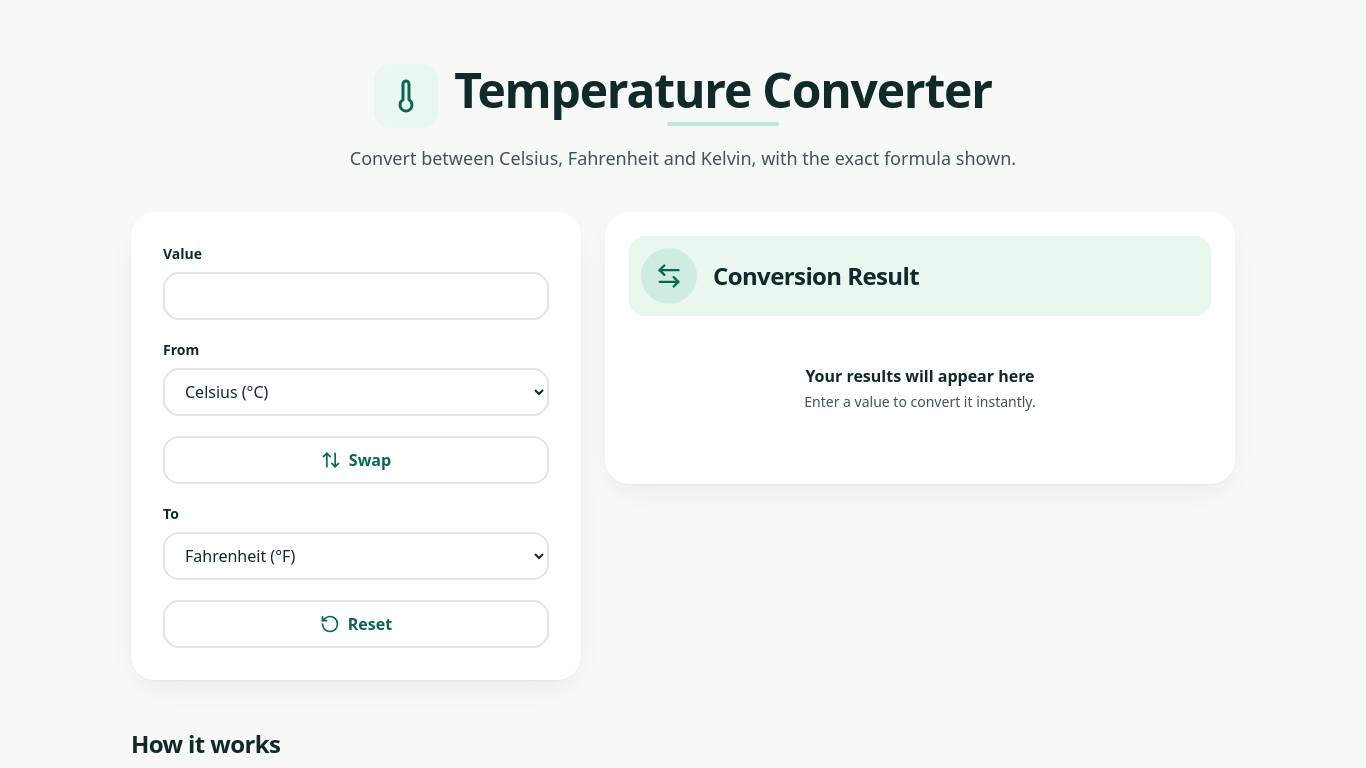
Temperature Converter › resets the value and units
In the field labelled "Value": x=356, y=296 top-left (163, 272), bottom-right (549, 320), type "5"
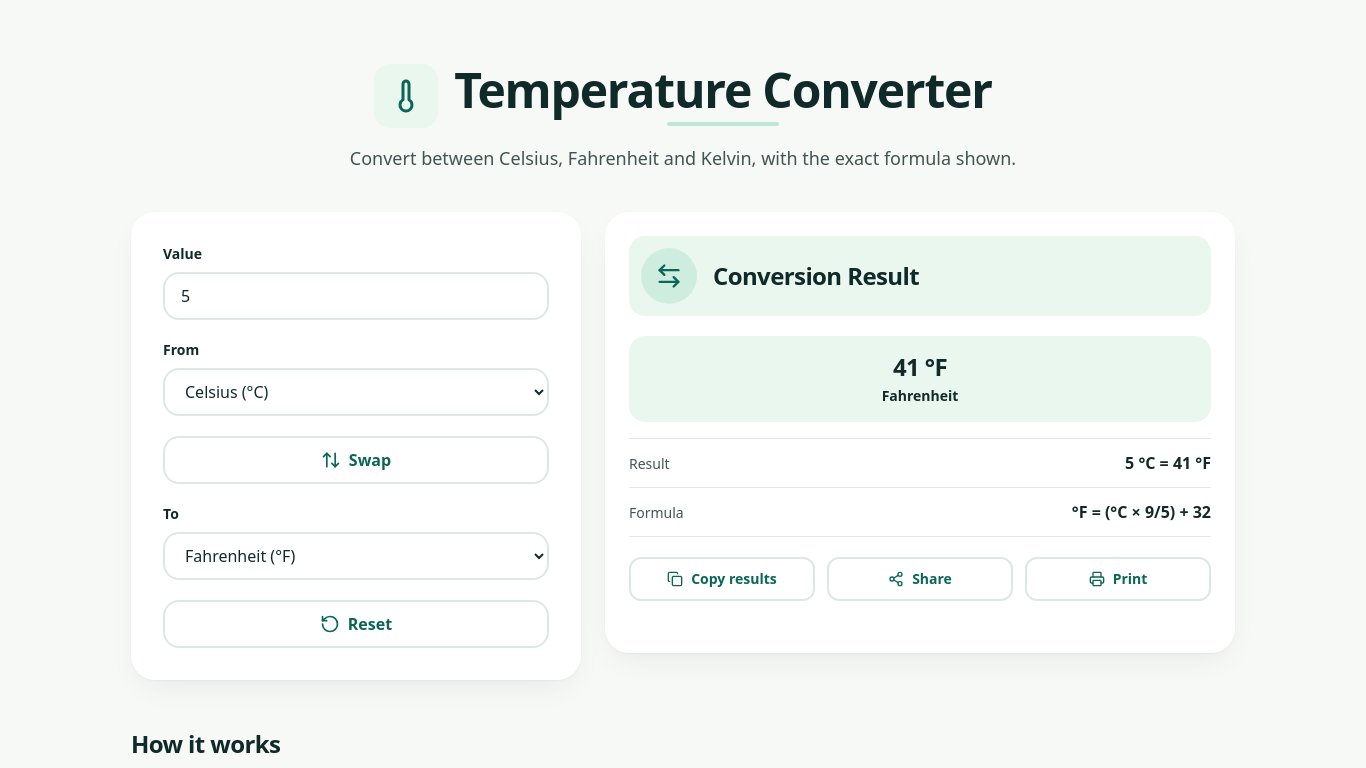
Select "Kelvin (K)" in the dropdown labelled "To": x=356, y=556 top-left (163, 532), bottom-right (549, 580)
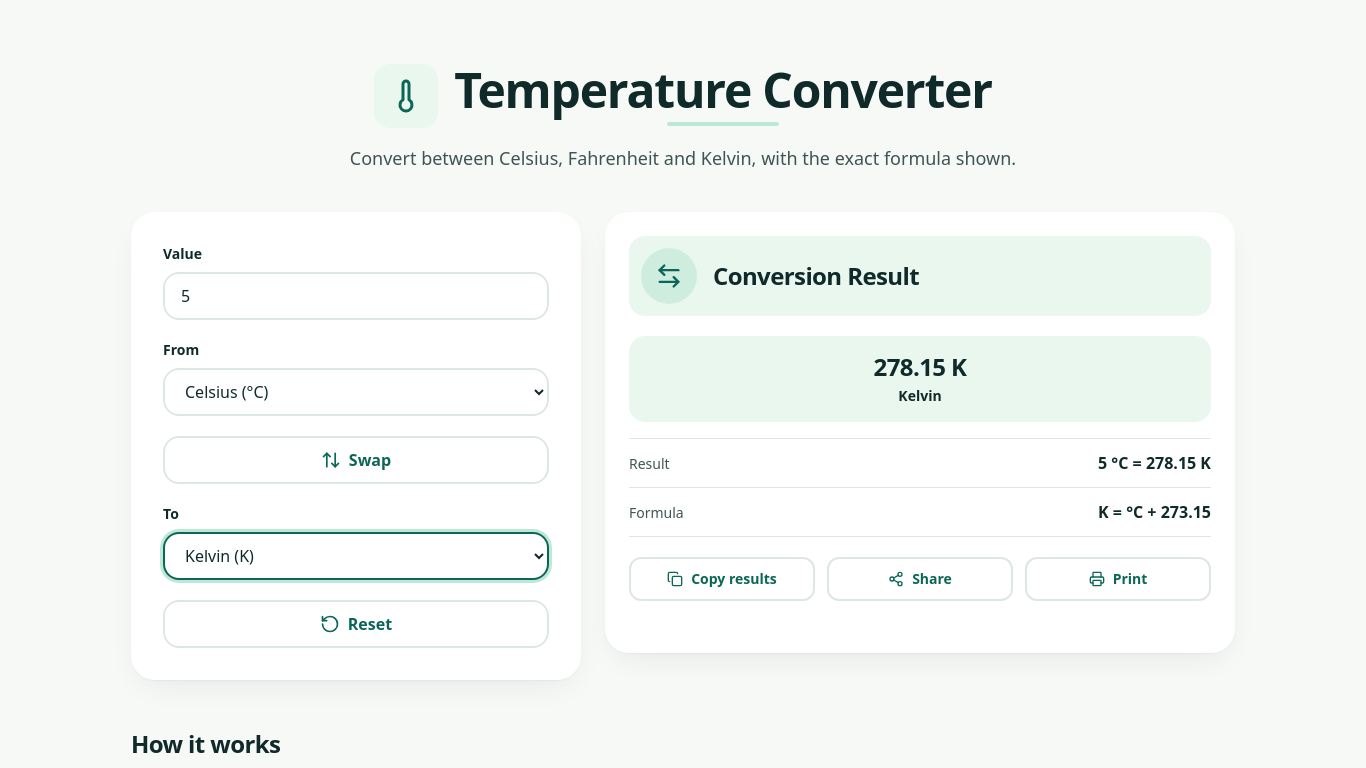
Click the button "Reset": x=356, y=624 top-left (163, 600), bottom-right (549, 648)
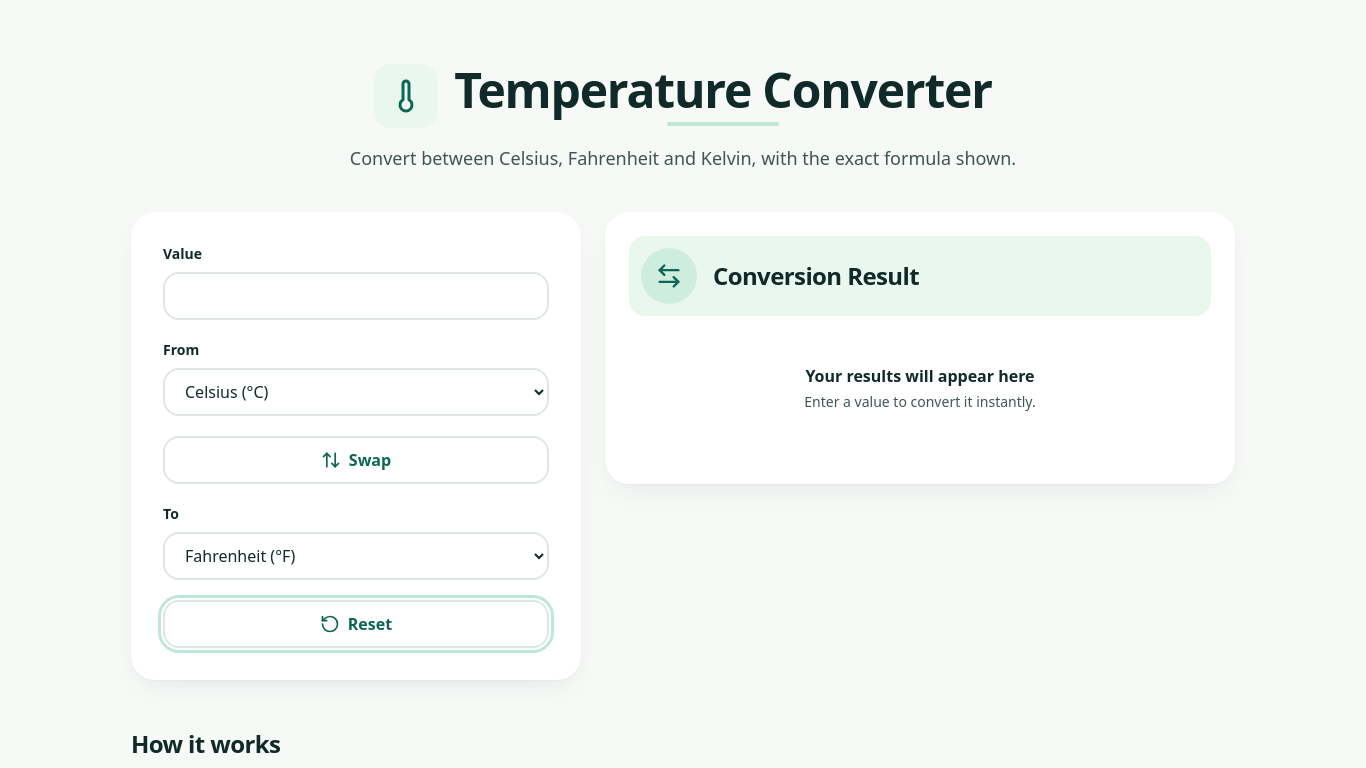
Expected: the field labelled "Value" is empty, top-left (163, 272), bottom-right (549, 320)
